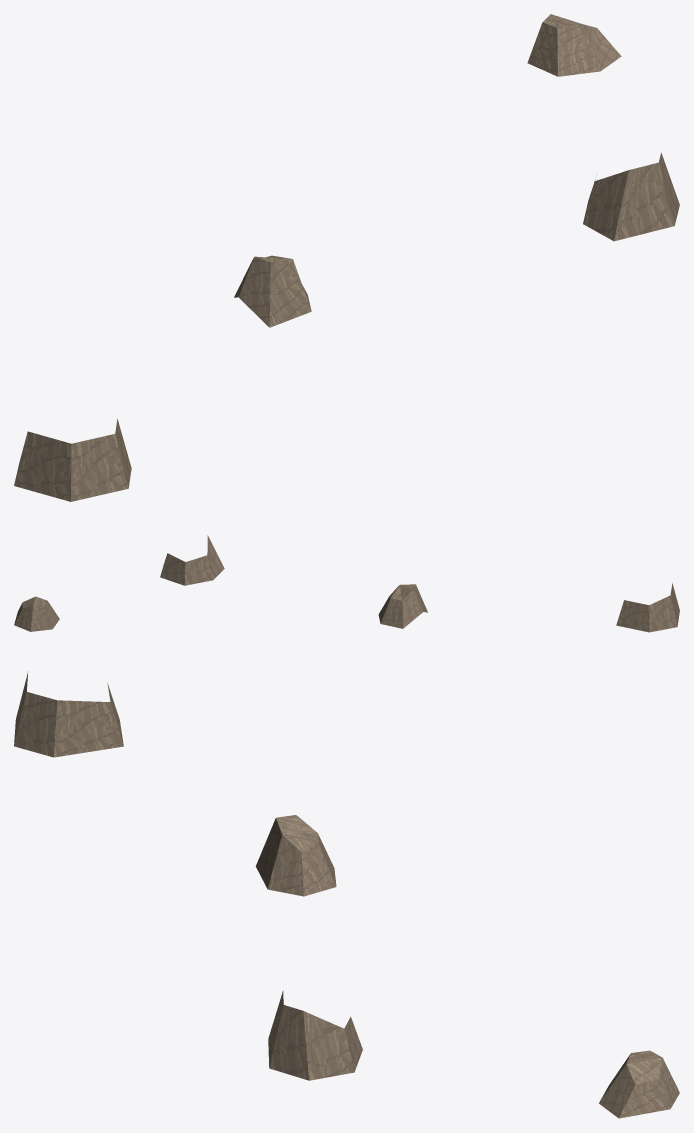
File: kd_stage_1364a3_1_1.glb
The picture shows the model from 3 angles, top to bottom: view 1: azimuth 30°, elevation 25°; view 2: azimuth 150°, elevation 25°; view 3: azimuth 270°, elevation 25°; orthographic projection. The views are drawn at different scales.
Parts seen in each view (by area): view 1: kd_stage_1364a3_1_1; view 2: kd_stage_1364a3_1_1; view 3: kd_stage_1364a3_1_1.
Boxes of the visible parts, x1,y1,x2,y2 form: kd_stage_1364a3_1_1: (14, 14, 679, 501); kd_stage_1364a3_1_1: (14, 535, 679, 632); kd_stage_1364a3_1_1: (14, 671, 679, 1118).
Bounding box in the file's own units: 56.9 × 3.91 × 37.68.
1 material, 1 textured.
